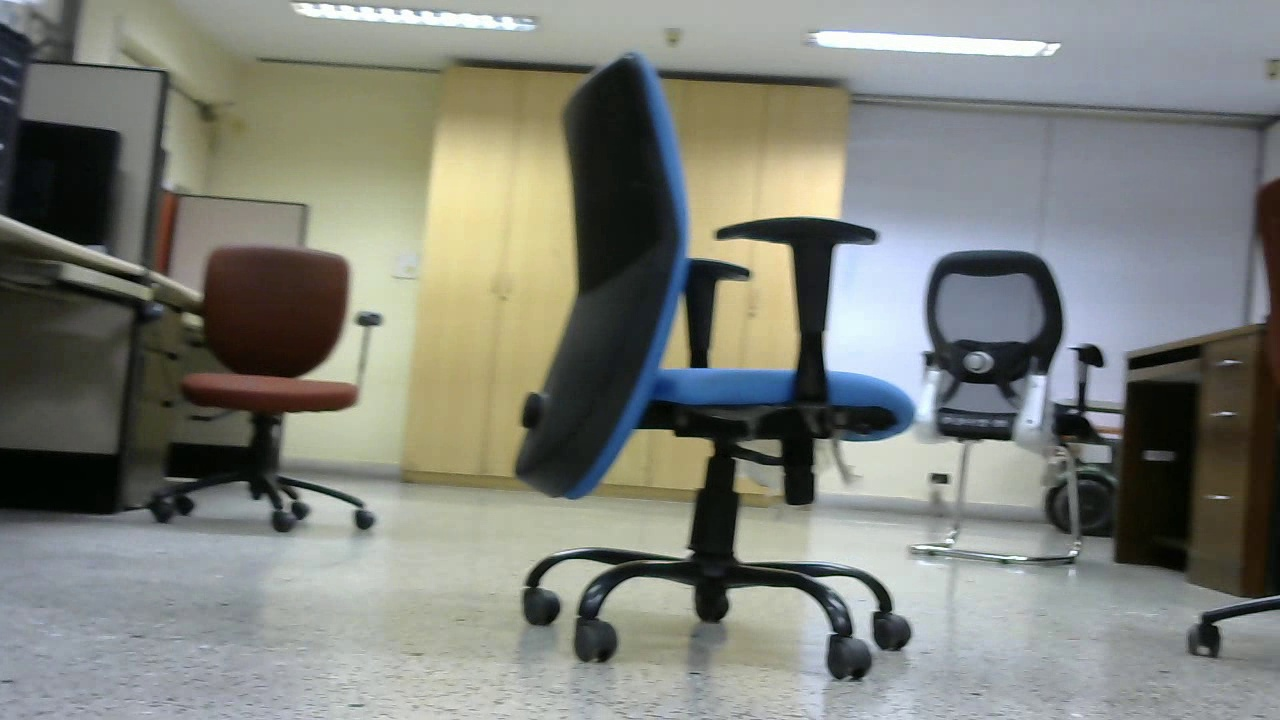chair: (505, 47, 910, 677), (158, 229, 371, 533), (904, 244, 1087, 567)
